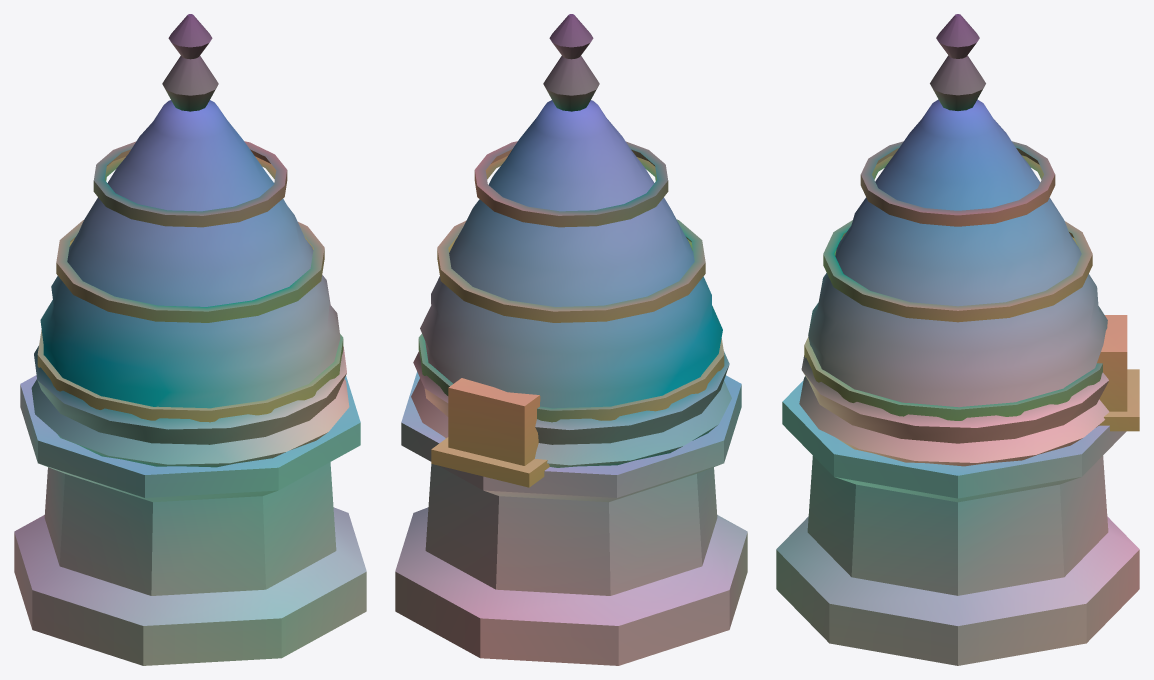
File: apiary_skep.glb
The picture shows the model from 3 angles, left to right: view 1: azimuth 30°, elevation 25°; view 2: azimuth 150°, elevation 25°; view 3: azimuth 270°, elevation 25°; orthographic projection.
Visible parts, largest first — view 1: skep_dome, skep_plinth, skep_hoop.001, skep_hoop.002, skep_hoop, skep_finial; view 2: skep_dome, skep_plinth, skep_porch, skep_hoop.001, skep_hoop.002, skep_finial, skep_hoop; view 3: skep_dome, skep_plinth, skep_hoop.001, skep_hoop.002, skep_hoop, skep_porch, skep_finial.
Boxes of the visible parts, x1,y1,x2,y2 form: skep_dome: [31, 100, 349, 467]; skep_plinth: [14, 375, 366, 665]; skep_hoop.001: [56, 220, 324, 322]; skep_hoop.002: [93, 141, 287, 227]; skep_hoop: [37, 330, 343, 422]; skep_finial: [162, 14, 218, 111]; skep_dome: [411, 100, 731, 467]; skep_plinth: [395, 371, 747, 665]; skep_porch: [431, 378, 549, 487]; skep_hoop.001: [437, 219, 705, 322]; skep_hoop.002: [474, 141, 668, 227]; skep_finial: [543, 14, 599, 111]; skep_hoop: [418, 334, 724, 422]; skep_dome: [799, 99, 1109, 466]; skep_plinth: [776, 380, 1139, 665]; skep_hoop.001: [823, 220, 1092, 322]; skep_hoop.002: [860, 141, 1055, 226]; skep_hoop: [804, 337, 1102, 420]; skep_porch: [1097, 315, 1139, 431]; skep_finial: [930, 14, 985, 110].
Size of the model in its own units: 1.16 by 2.02 by 1.16.
